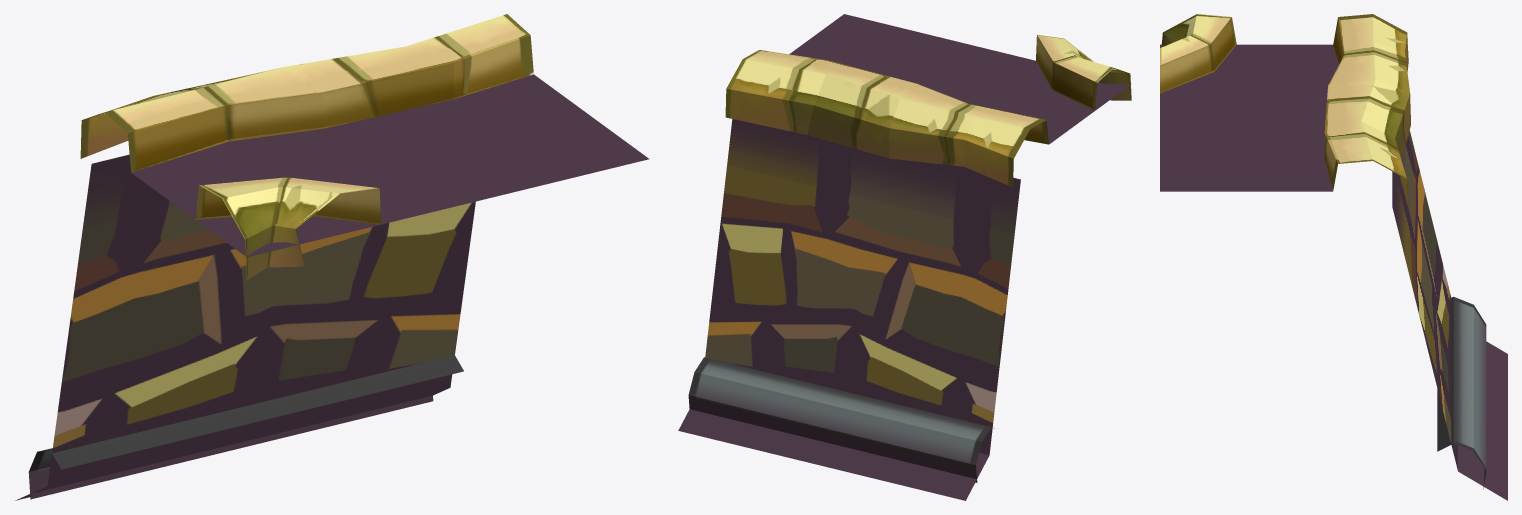
Rendered from Int_41.fbx.
3 renders of one model, left to right at view 1: azimuth 30°, elevation 25°; view 2: azimuth 150°, elevation 25°; view 3: azimuth 270°, elevation 25°, orthographic. The views are drawn at different scales.
Parts seen in each view (by area): view 1: Int_41; view 2: Int_41; view 3: Int_41.
Part boxes in pixels (box(x1,y1,x2,y2)): Int_41: box(15, 14, 649, 500); Int_41: box(678, 14, 1131, 500); Int_41: box(1160, 14, 1507, 500).
Size of the model in its own units: 1 by 1.08 by 1.
